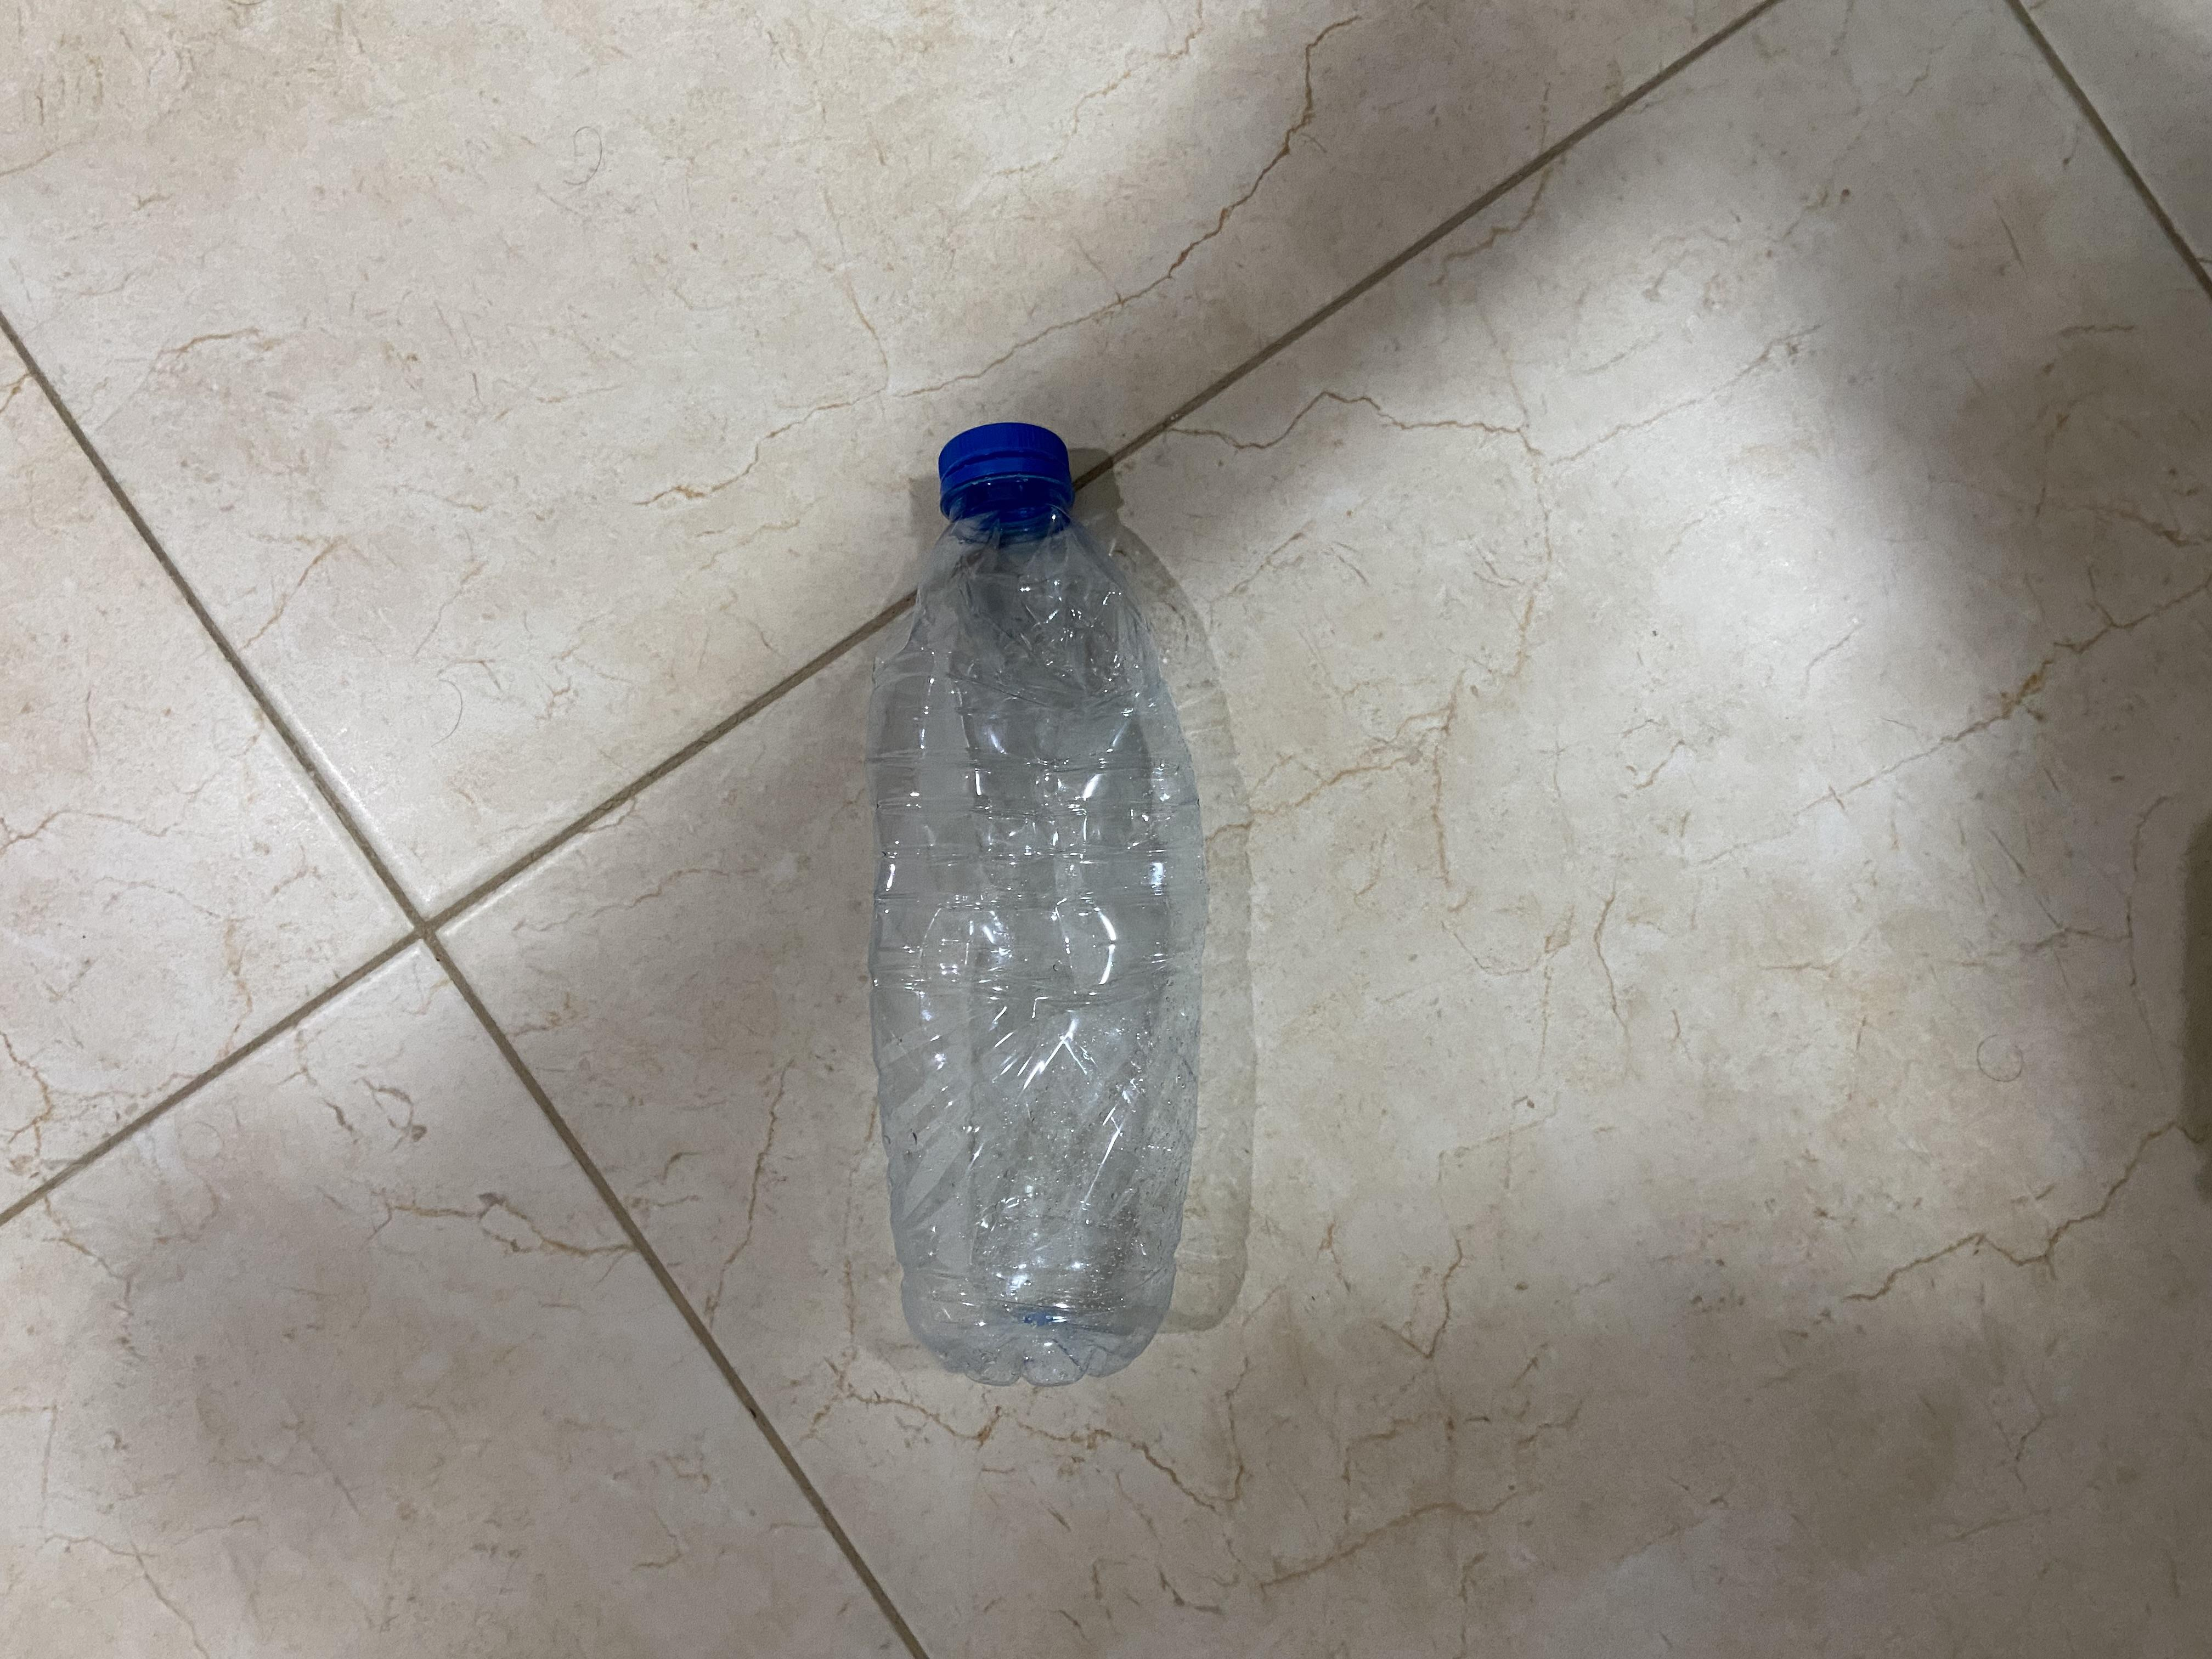bottle: (324, 748, 1683, 802)
